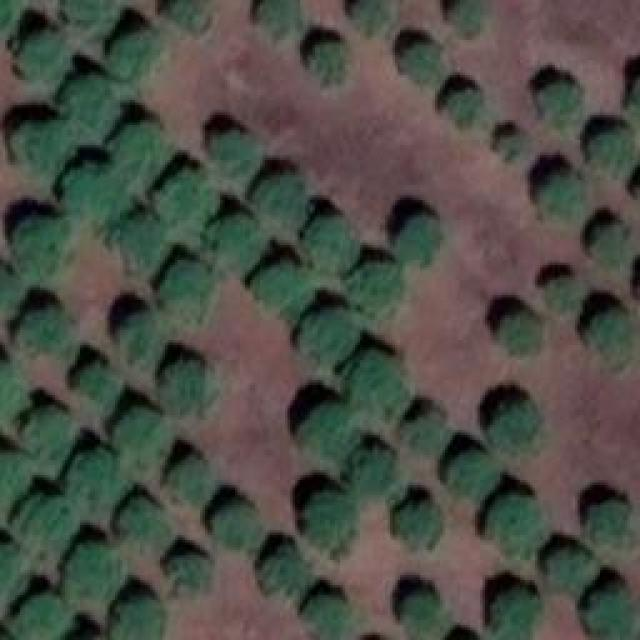Tree: (57, 160, 126, 224), (350, 355, 411, 414), (485, 498, 546, 557), (297, 400, 355, 457), (162, 268, 218, 327), (10, 213, 65, 273), (18, 298, 71, 360), (160, 170, 219, 225), (303, 490, 355, 551), (208, 218, 270, 269), (110, 123, 167, 178), (65, 450, 122, 505), (12, 118, 70, 172), (258, 262, 312, 320), (485, 592, 550, 640), (112, 413, 170, 466), (118, 497, 171, 554), (485, 403, 543, 455), (65, 545, 118, 601), (585, 308, 635, 367), (304, 218, 358, 272), (65, 348, 118, 403), (112, 215, 169, 266), (60, 70, 114, 123), (108, 20, 161, 73), (23, 408, 75, 461), (298, 313, 351, 365), (448, 448, 498, 503), (164, 360, 218, 410), (258, 548, 307, 603), (25, 498, 77, 549), (585, 588, 636, 640), (203, 130, 259, 177), (353, 450, 403, 502), (263, 178, 317, 226), (585, 125, 640, 172), (538, 173, 585, 227), (400, 218, 450, 268), (20, 23, 69, 74), (398, 503, 446, 555), (355, 263, 402, 315), (543, 548, 594, 595), (303, 38, 345, 94), (118, 308, 165, 358), (165, 455, 214, 502), (165, 555, 218, 598), (215, 507, 264, 552), (20, 592, 65, 639), (443, 85, 486, 132), (585, 500, 631, 543), (115, 602, 165, 640), (347, 0, 393, 41), (165, 0, 210, 41), (400, 38, 439, 85), (59, 0, 118, 31), (445, 0, 491, 39), (540, 80, 578, 126), (302, 597, 342, 640), (402, 597, 442, 640), (500, 315, 544, 354), (403, 405, 444, 445), (0, 455, 22, 527), (258, 0, 297, 37), (0, 358, 22, 423), (0, 542, 20, 612), (0, 263, 24, 317), (493, 130, 529, 166), (543, 275, 579, 308), (592, 228, 625, 263)
